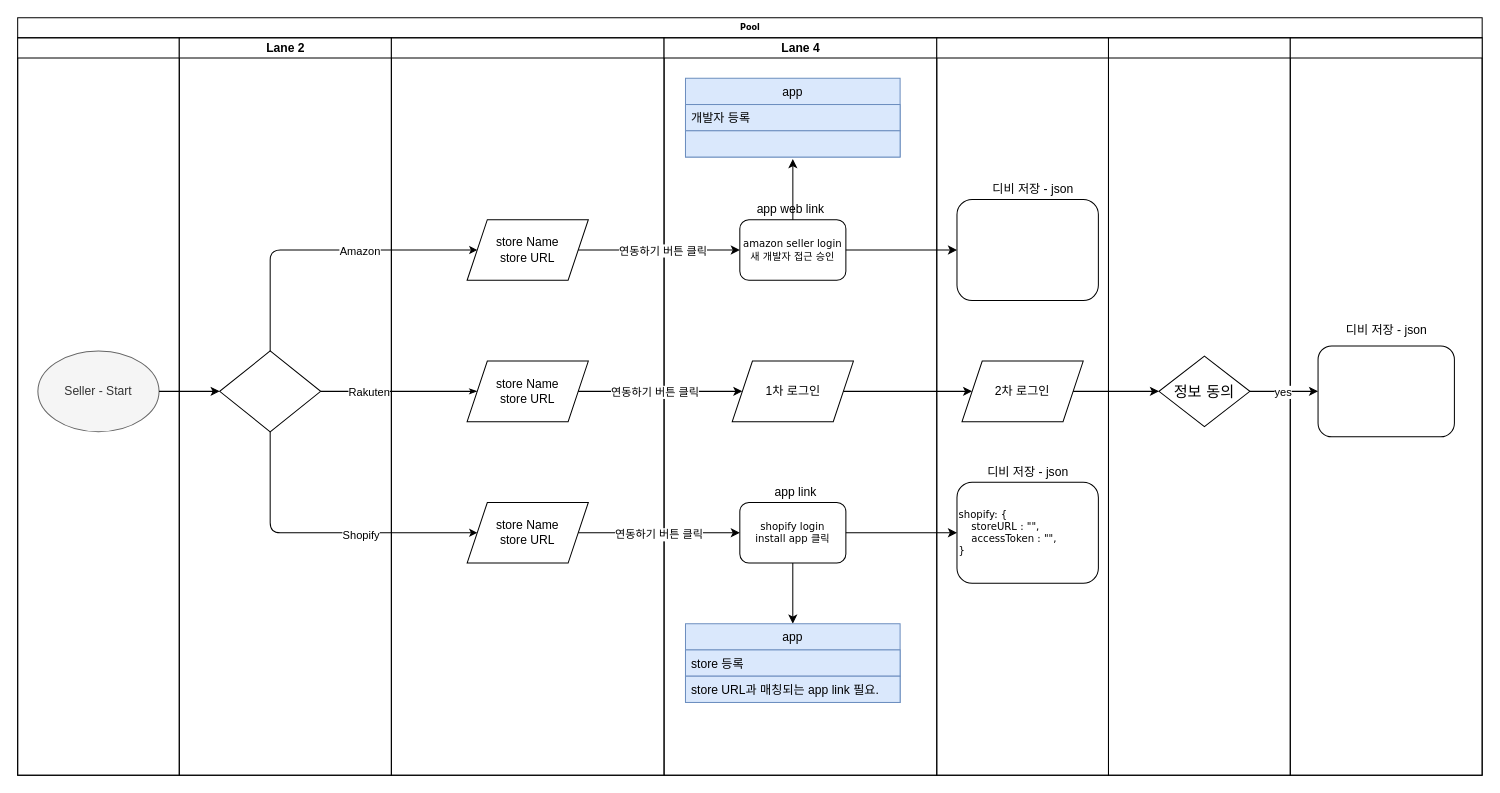
The diagram is 1500 pixels wide and 793 high, and some of its shapes have lost their labels. Here are the shapes that lost their labels. From the top down, the box of each, then its label:
(684, 130, 900, 157): store URL과 매칭되는 appID 필요.
(956, 198, 1098, 300): amazon: { storeURL : "", spapi-oauth-code : "", refreshToken : "" }
(17, 37, 179, 775): Lane 1
(219, 350, 321, 432): 쇼핑몰 선택
(390, 37, 664, 775): Lane 3
(936, 37, 1108, 775): Lane 5
(1107, 37, 1290, 775): Lane 6
(1317, 345, 1454, 437): rakuten: { storeURL : "", key : "", 만료일 : "" }
(1289, 37, 1482, 775): Lane 7
